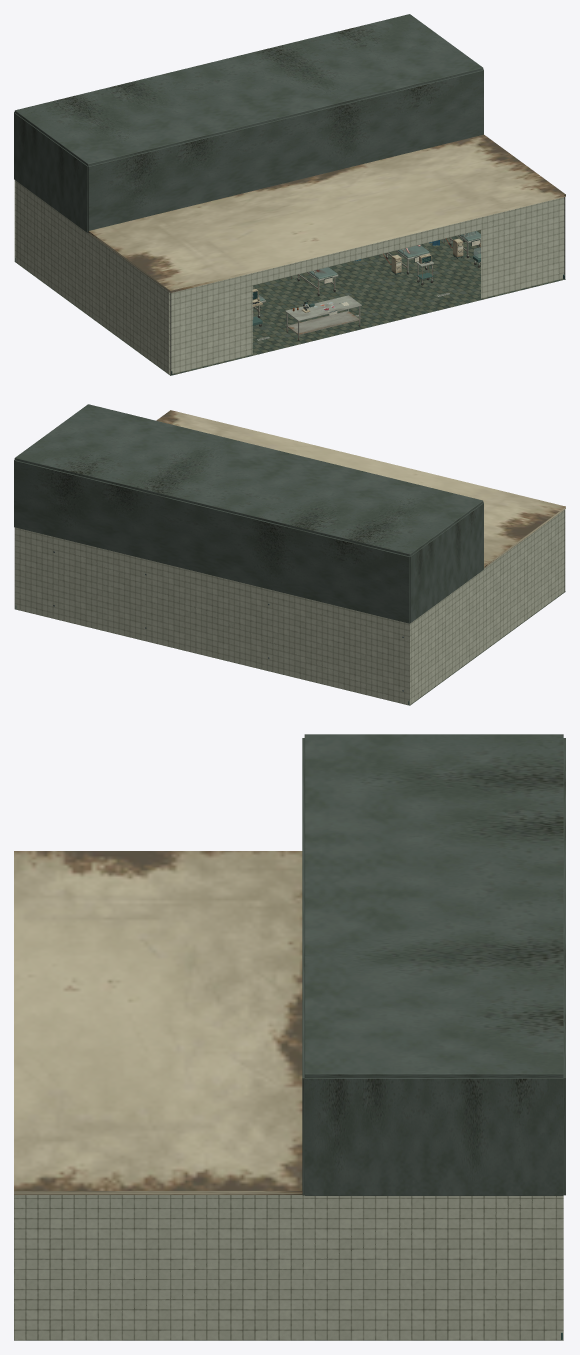
Rendered from lab_kit.glb.
3 renders of one model, top to bottom at view 1: azimuth 30°, elevation 25°; view 2: azimuth 150°, elevation 25°; view 3: azimuth 270°, elevation 25°, orthographic. The views are drawn at different scales.
Visible parts, largest first — view 1: S__65, S__6, S__64, S__63, S__1, S__0, S__15; view 2: S__65, S__64, S__6; view 3: S__65, S__6, S__64.
Boxes of the visible parts, left/top/right/bottom form: S__65: left=14, top=14, right=483, bottom=232; S__6: left=88, top=134, right=565, bottom=312; S__64: left=14, top=180, right=565, bottom=375; S__63: left=15, top=230, right=565, bottom=375; S__1: left=252, top=231, right=480, bottom=339; S__0: left=257, top=232, right=480, bottom=340; S__15: left=258, top=231, right=480, bottom=301; S__65: left=14, top=404, right=483, bottom=623; S__64: left=14, top=509, right=565, bottom=705; S__6: left=156, top=410, right=565, bottom=568; S__65: left=302, top=734, right=565, bottom=1195; S__6: left=14, top=851, right=302, bottom=1194; S__64: left=14, top=1195, right=563, bottom=1340.
Size of the model in its own units: 18.06 by 6.59 by 12.35.
124 materials, 69 textured.
